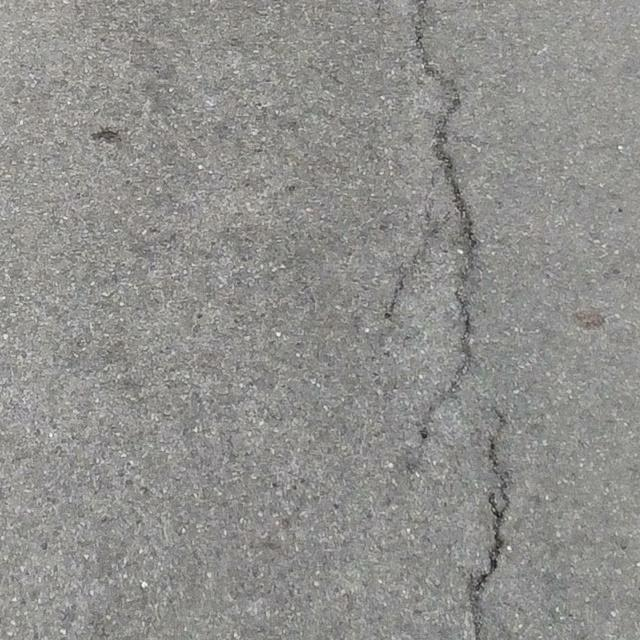LongitudinalCrack: (388, 12, 480, 440), (466, 407, 509, 640)
